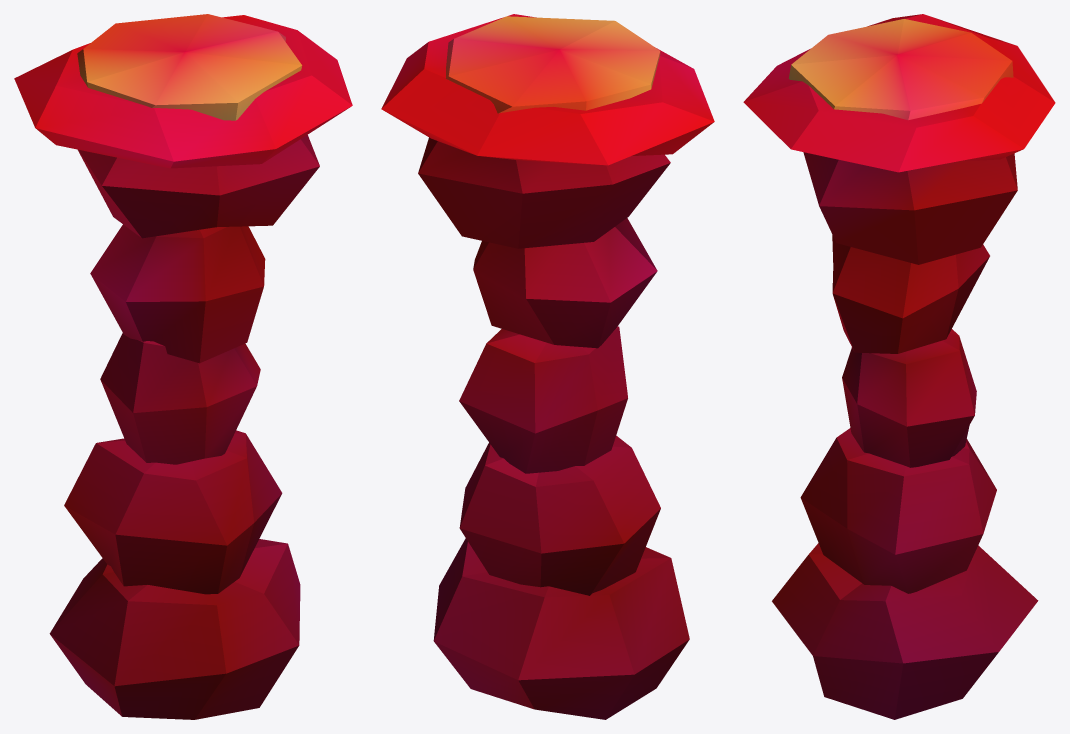
The model's file is Hoodoo_01.fbx.
The picture shows the model from 3 angles, left to right: view 1: azimuth 30°, elevation 25°; view 2: azimuth 150°, elevation 25°; view 3: azimuth 270°, elevation 25°; orthographic projection. The views are drawn at different scales.
Parts seen in each view (by area): view 1: Hoodoo_01; view 2: Hoodoo_01; view 3: Hoodoo_01.
Part boxes in pixels (x1=…): Hoodoo_01: x1=14, y1=14, x2=352, y2=719; Hoodoo_01: x1=381, y1=14, x2=714, y2=719; Hoodoo_01: x1=743, y1=14, x2=1055, y2=719.
Size of the model in its own units: 3.51 by 7.07 by 3.18.
